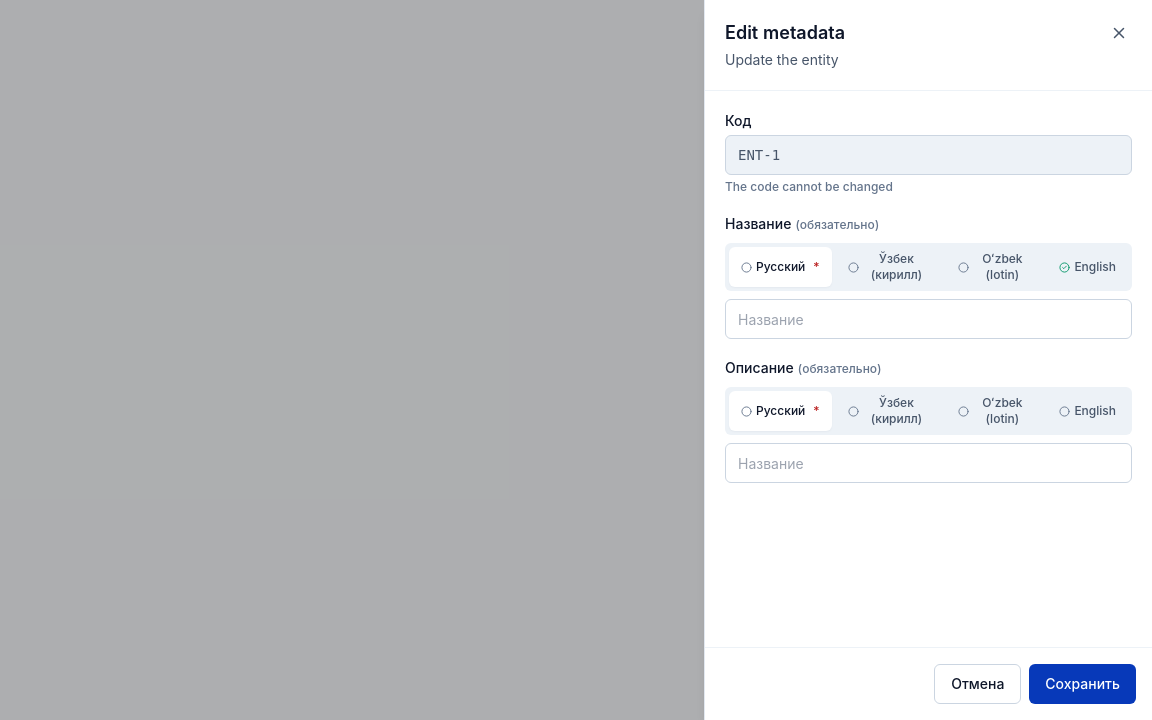
it: <TemplateMetadataDrawer /> (shared) › blocks submit and surfaces buildPatch validation errors (entity-specific extra fields)
Step 1. Click the button "Сохранить" → (1083, 684), box [1029,664,1136,704]
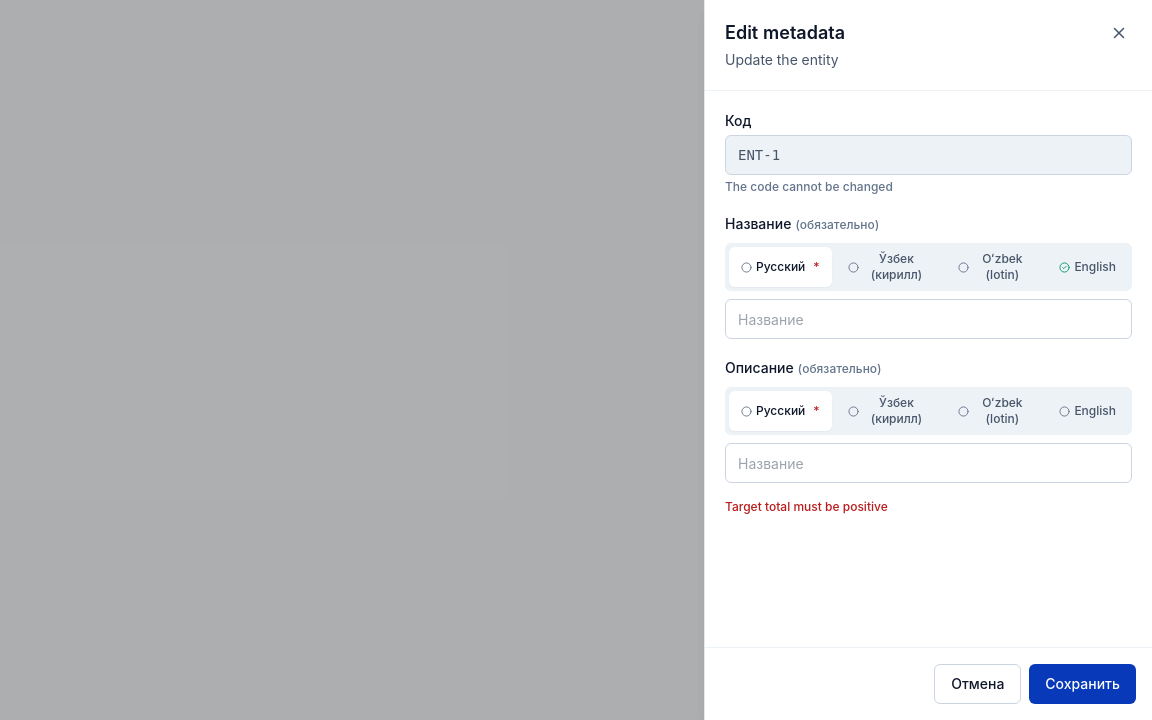
Now the message with test id "fake-metadata-error" reads "Target total must be positive", box [725,499,888,514]
